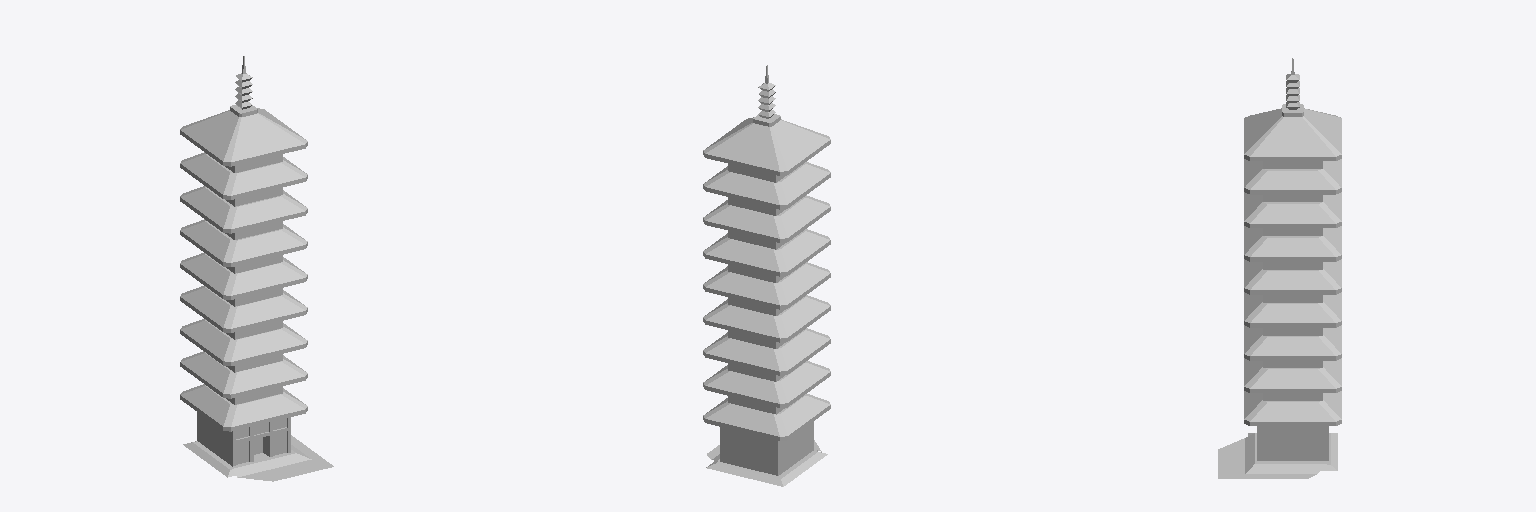
Rendered from Bell Tower3.obj.
3 renders of one model, left to right at view 1: azimuth 30°, elevation 25°; view 2: azimuth 150°, elevation 25°; view 3: azimuth 270°, elevation 25°, orthographic.
Parts seen in each view (by area): view 1: polygon0; view 2: polygon0; view 3: polygon0.
Boxes of the visible parts, box(x1,y1,x2,y2) form: polygon0: box(180, 56, 333, 481); polygon0: box(703, 65, 830, 486); polygon0: box(1218, 58, 1341, 478).
Size of the model in its own units: 33.18 by 134 by 37.14.